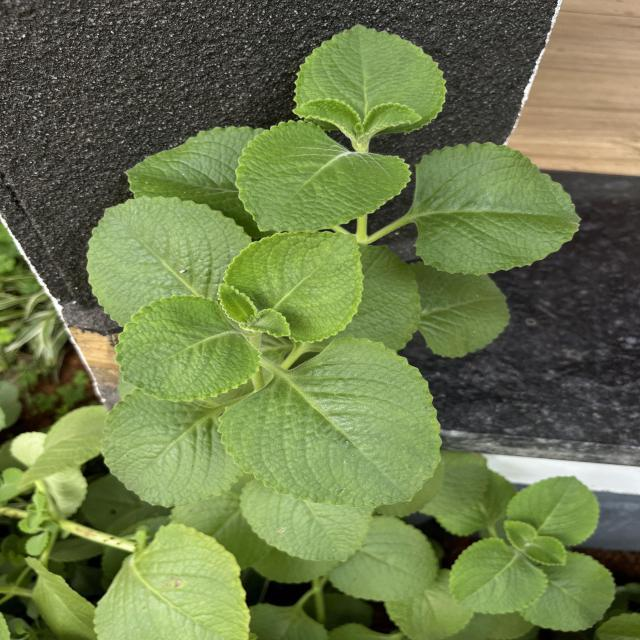Plectranthus barbatus: (218, 334, 444, 509), (414, 141, 584, 277), (85, 194, 252, 330), (234, 119, 414, 234), (93, 520, 253, 640), (99, 388, 246, 508), (291, 23, 448, 135), (114, 293, 264, 403), (222, 230, 366, 344), (238, 479, 377, 564), (411, 260, 511, 360), (326, 514, 438, 603), (517, 550, 617, 632), (448, 536, 548, 615), (505, 474, 601, 548), (524, 535, 568, 567)
